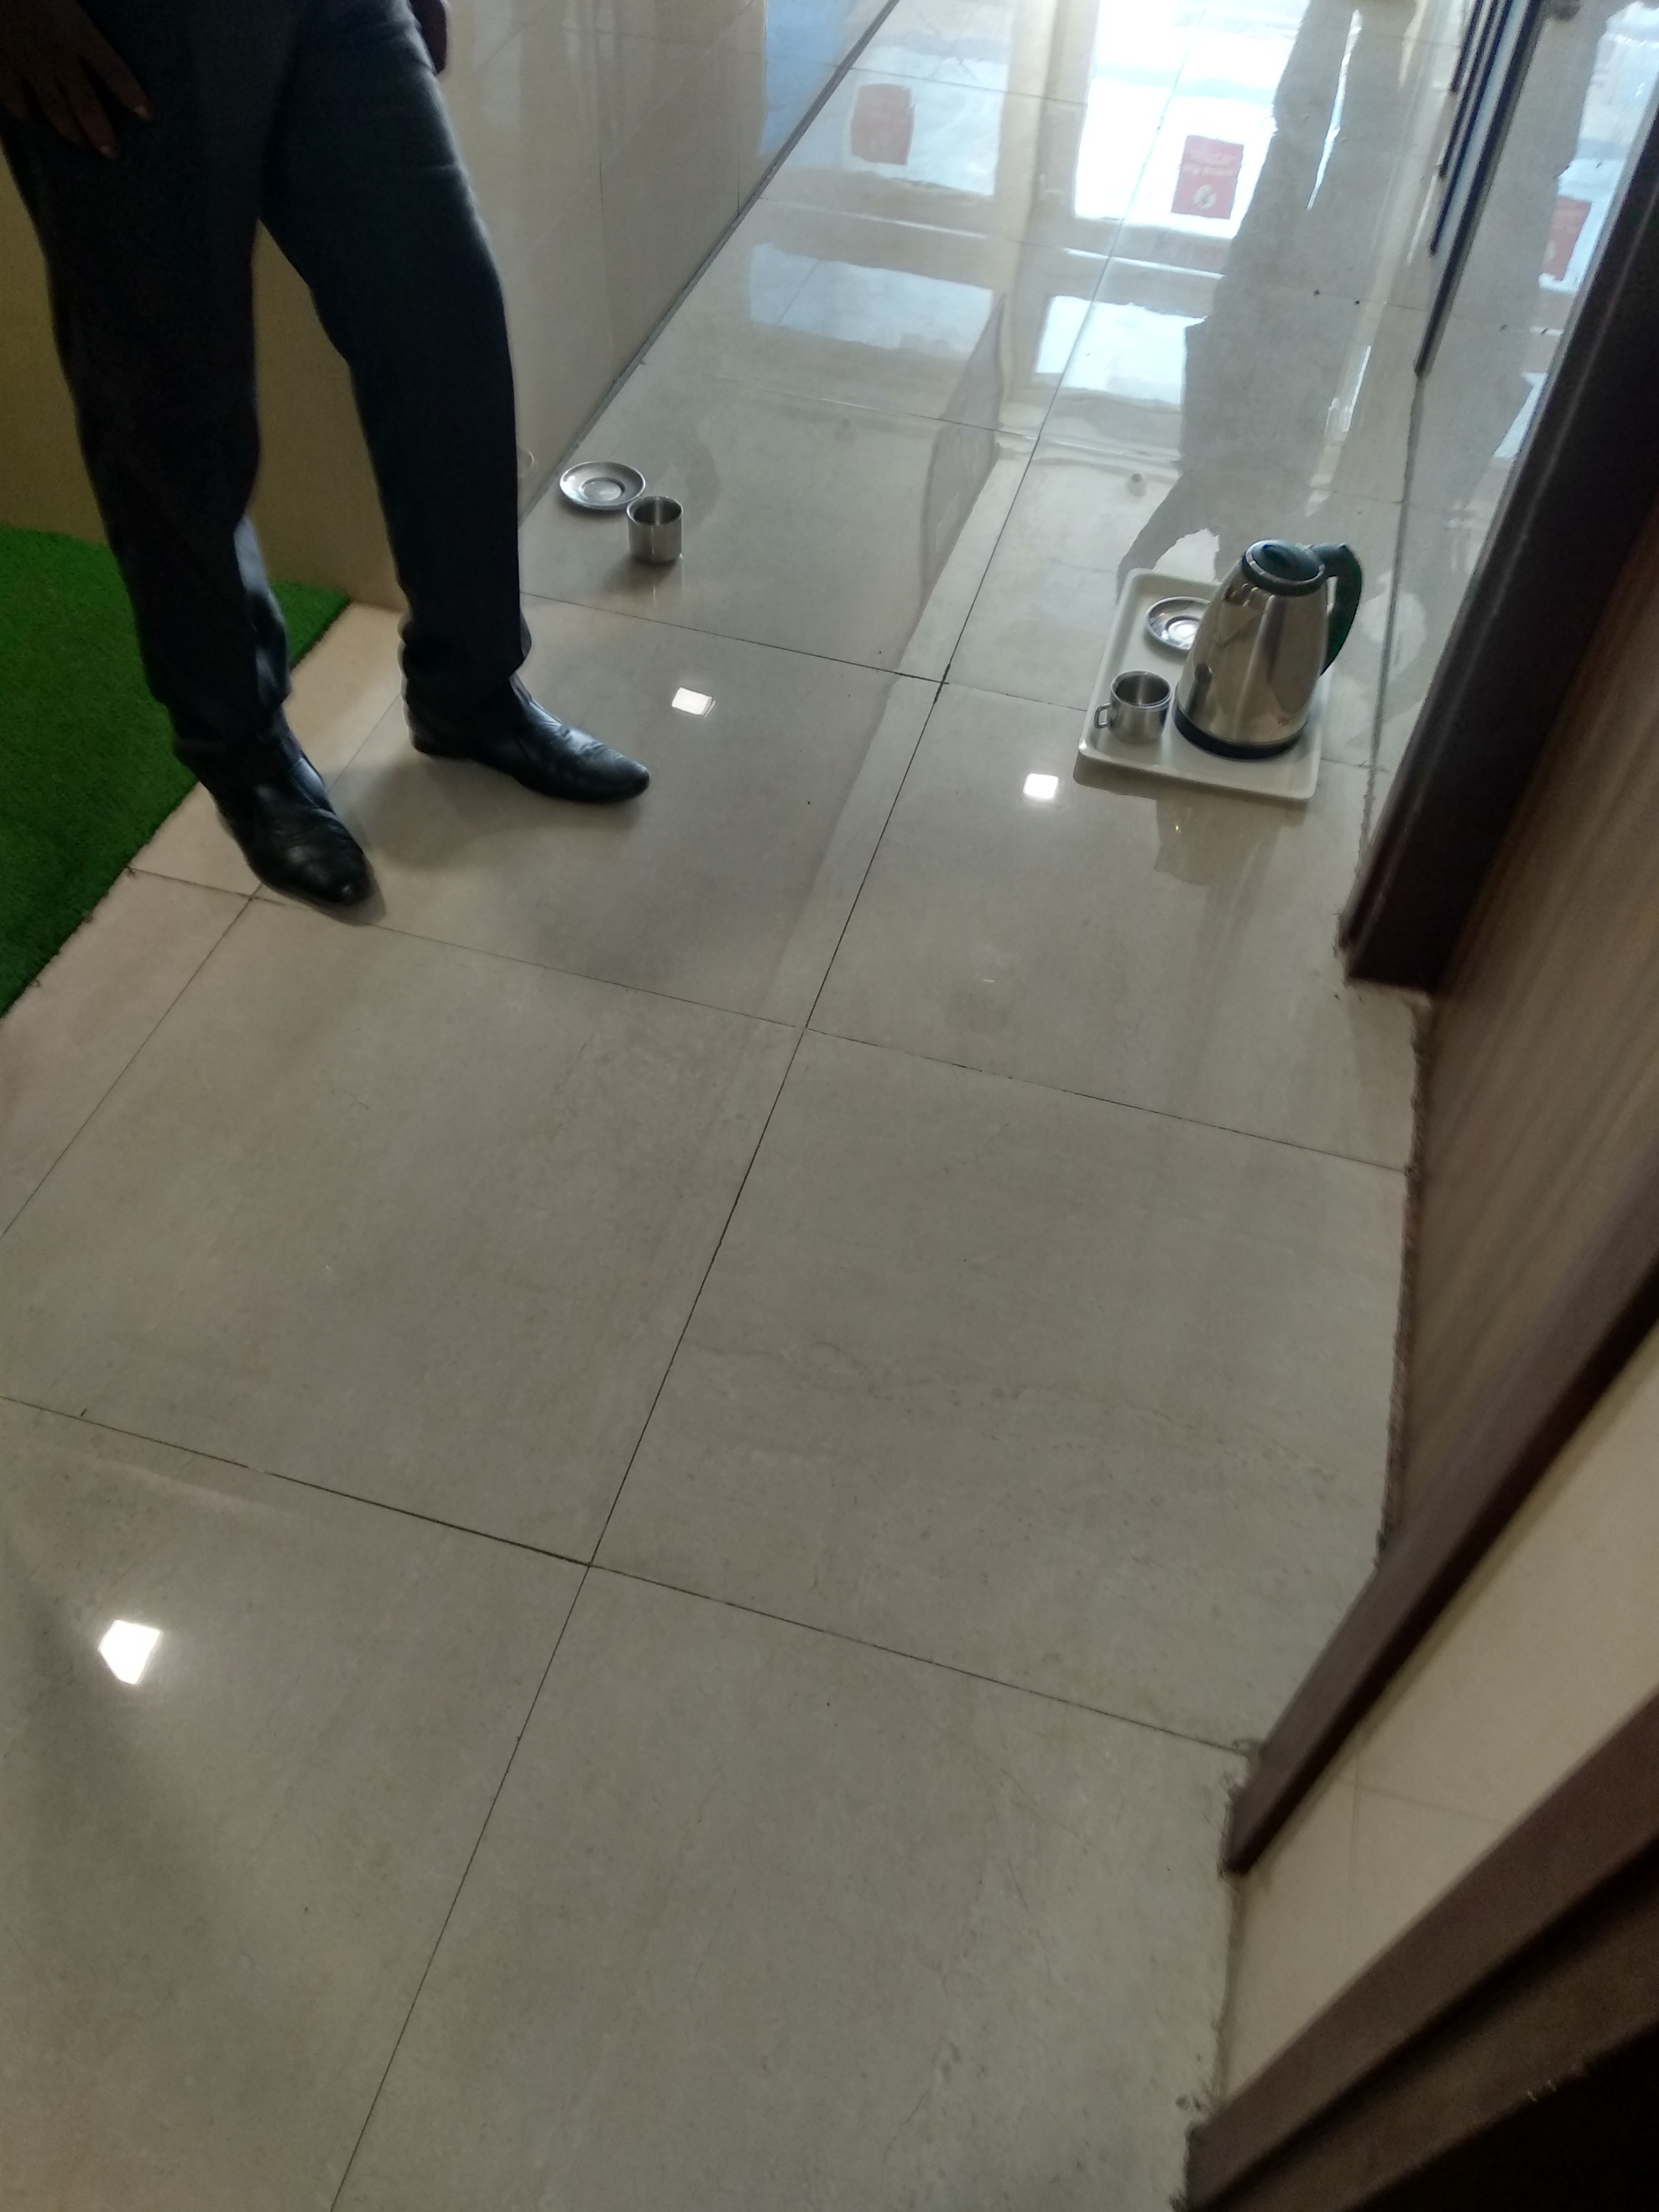CUP: (1107, 672, 1176, 754), (622, 500, 697, 568)
FLASK: (1180, 545, 1370, 745)
